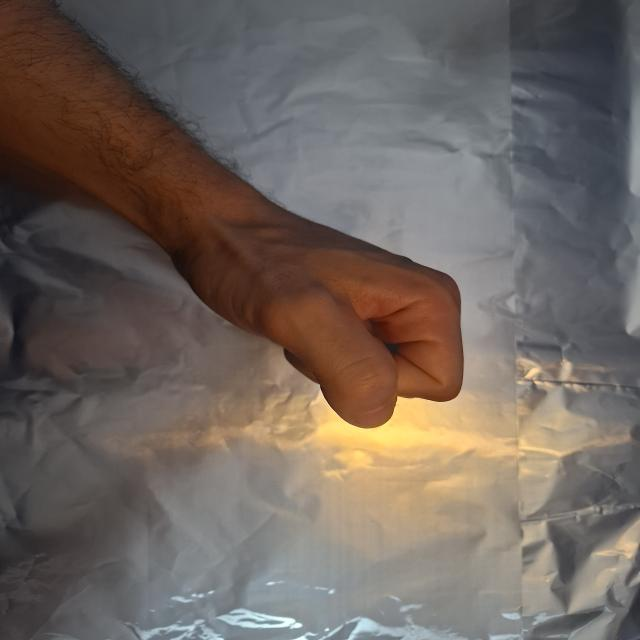glove_off: (160, 194, 468, 428)
